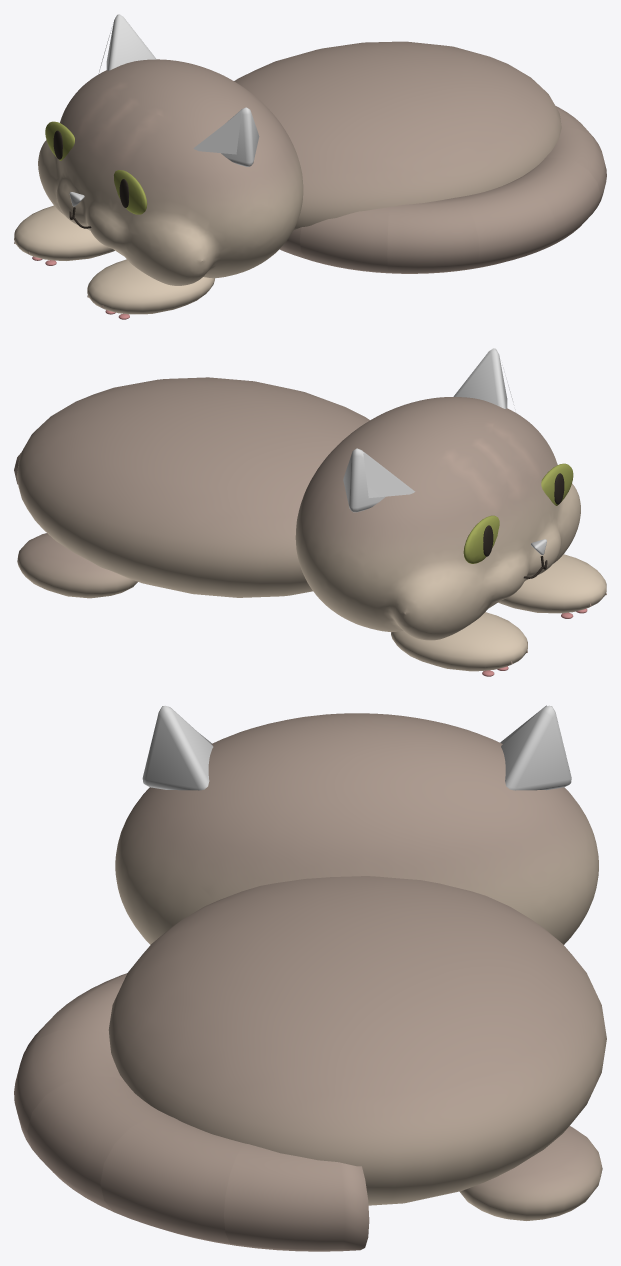
File: cat.glb
3 views of the same model, one above another, from view 1: azimuth 30°, elevation 25°; view 2: azimuth 150°, elevation 25°; view 3: azimuth 270°, elevation 25° (orthographic). The views are drawn at different scales.
Parts seen in each view (by area): view 1: Head, Body, TailSegment_05, TailSegment_04, TailSegment_06, front_paw_-1, TailSegment_03, front_paw_1, TailSegment_02, ear_1, ear_-1, inner_ear_-1 (+2 smaller); view 2: Body, Head, front_paw_1, rear_paw_1, front_paw_-1, ear_-1, ear_1, inner_ear_1, iris1, iris-1; view 3: Body, Head, TailSegment_01, TailSegment_02, TailSegment_03, rear_paw_1, TailSegment_04, ear_1, ear_-1, TailSegment_05.
Boxes of the visible parts, x1,y1,x2,y2 form: Head: (38, 59, 303, 285); Body: (234, 41, 561, 229); TailSegment_05: (387, 197, 479, 273); TailSegment_04: (458, 182, 555, 269); TailSegment_06: (300, 207, 389, 273); front_paw_-1: (87, 259, 214, 314); TailSegment_03: (510, 157, 600, 247); front_paw_1: (14, 205, 114, 260); TailSegment_02: (545, 127, 606, 205); ear_1: (106, 14, 156, 70); ear_-1: (221, 107, 259, 166); inner_ear_-1: (193, 112, 241, 154); Body: (16, 377, 369, 597); Head: (295, 397, 580, 640); front_paw_1: (391, 612, 527, 671); rear_paw_1: (17, 533, 137, 598); front_paw_-1: (498, 554, 606, 613); ear_-1: (453, 348, 507, 408); ear_1: (343, 448, 385, 512); inner_ear_1: (363, 452, 415, 497); iris1: (463, 515, 499, 563); iris-1: (541, 463, 573, 505); Body: (108, 876, 606, 1205); Head: (115, 713, 598, 944); TailSegment_01: (224, 1143, 369, 1251); TailSegment_02: (100, 1115, 243, 1245); TailSegment_03: (27, 1076, 166, 1211); rear_paw_1: (459, 1126, 602, 1220); TailSegment_04: (14, 1028, 124, 1148); ear_1: (501, 705, 571, 790); ear_-1: (142, 705, 213, 790); TailSegment_05: (24, 983, 121, 1052).
Bounding box in the file's own units: 0.45 × 0.1687 × 0.3.
